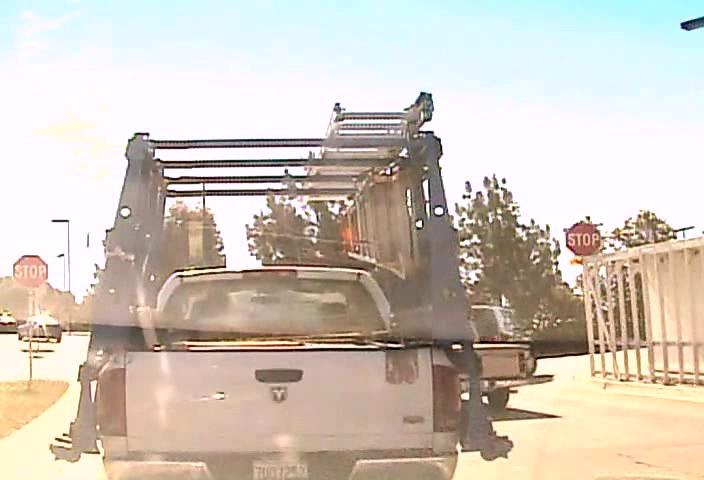stop: (565, 222, 601, 256)
